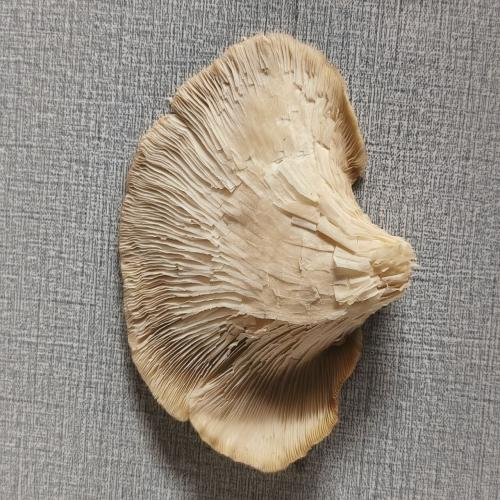Oyster Mushroom: (30, 0, 484, 493)
